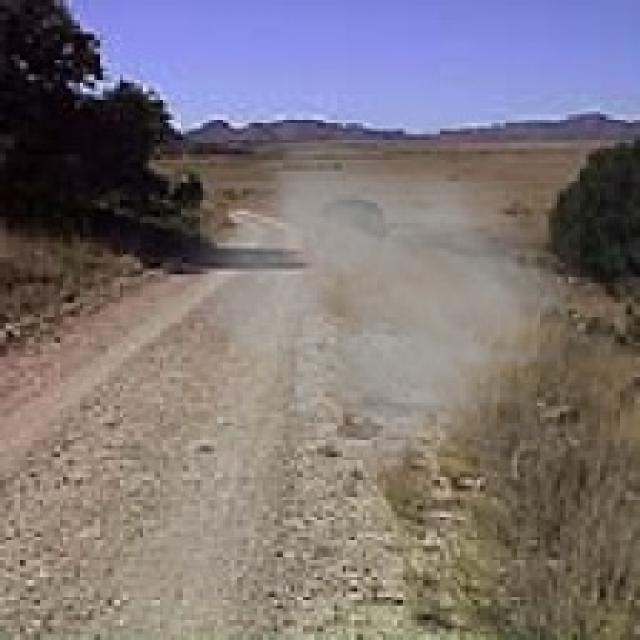smoke: (175, 143, 594, 497)
